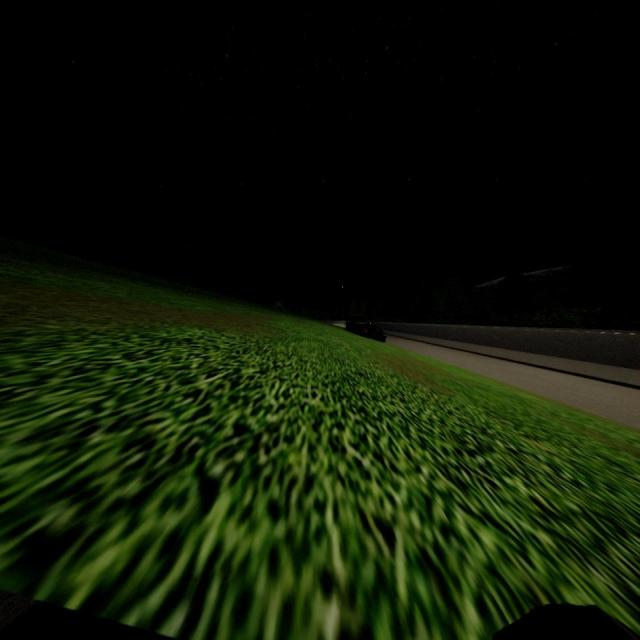Vehicle: (346, 315, 386, 342)
